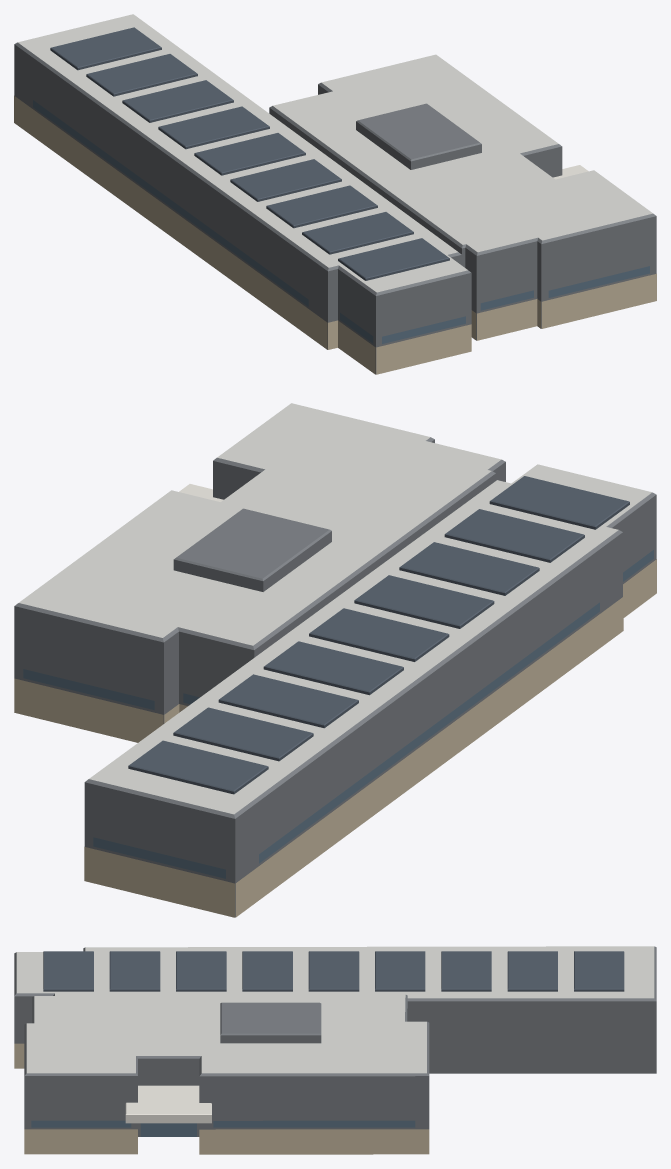
The model's file is sd-san-ysidro-ped-east.glb.
3 views of the same model, one above another, from view 1: azimuth 30°, elevation 25°; view 2: azimuth 150°, elevation 25°; view 3: azimuth 270°, elevation 25° (orthographic). The views are drawn at different scales.
Parts seen in each view (by area): view 1: San Ysidro Port of Entry, PedEast; view 2: San Ysidro Port of Entry, PedEast; view 3: San Ysidro Port of Entry, PedEast.
Part boxes in pixels (x1,y1,x2,y2): San Ysidro Port of Entry, PedEast: (14, 14, 656, 374); San Ysidro Port of Entry, PedEast: (14, 403, 656, 917); San Ysidro Port of Entry, PedEast: (14, 946, 656, 1154).
Size of the model in its own units: 54.76 by 15.6 by 102.
